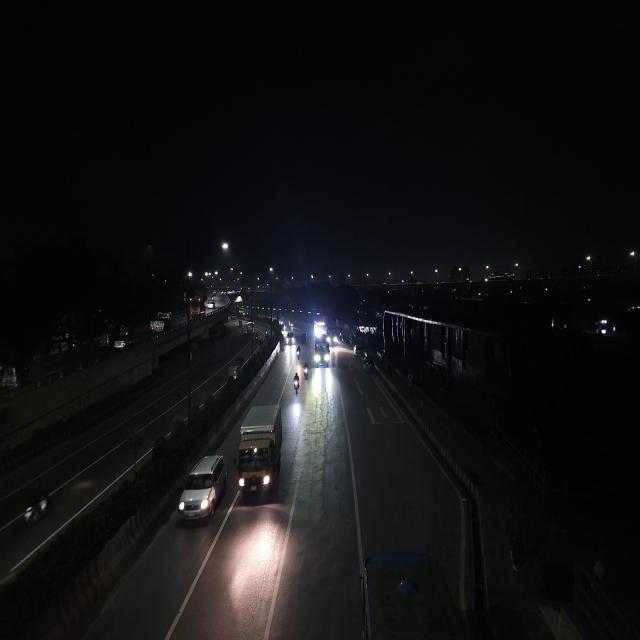bus: (313, 336, 331, 369), (326, 326, 338, 348), (245, 320, 255, 334)
car: (174, 450, 229, 529), (352, 344, 363, 359), (206, 298, 216, 310), (286, 332, 294, 346)
cng: (363, 357, 374, 376)
motorcycle: (19, 484, 53, 533), (292, 372, 302, 396), (301, 361, 309, 380), (295, 345, 301, 361)
pickup_van: (149, 308, 172, 334)
truck: (235, 401, 285, 503), (190, 296, 206, 318)
